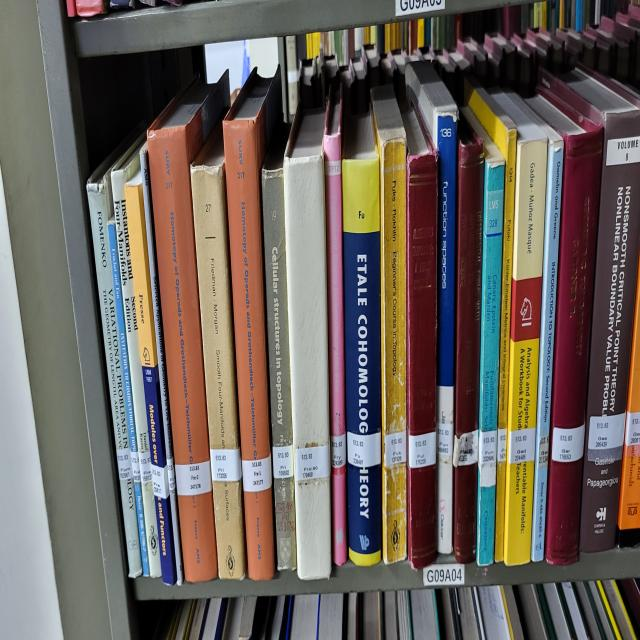Book: (541, 68, 640, 552), (146, 78, 229, 582), (534, 87, 602, 565), (222, 70, 280, 579), (86, 135, 142, 576), (191, 130, 246, 579), (465, 84, 516, 563), (410, 65, 459, 555), (498, 92, 548, 565), (283, 56, 331, 524), (111, 141, 161, 576), (125, 173, 176, 584), (140, 146, 184, 584), (526, 97, 564, 563), (370, 84, 406, 565), (402, 106, 438, 568), (261, 130, 296, 571), (108, 219, 150, 576), (452, 119, 484, 563), (476, 124, 505, 565), (344, 230, 381, 565), (322, 89, 348, 565), (344, 116, 379, 227)
Label: (588, 414, 625, 465), (295, 444, 330, 482), (346, 430, 381, 468), (551, 425, 585, 463), (175, 460, 211, 495), (210, 446, 241, 482), (242, 455, 271, 492), (508, 427, 536, 465), (409, 430, 436, 468), (452, 430, 479, 468), (384, 430, 406, 468), (272, 444, 294, 479), (479, 430, 498, 465), (151, 463, 169, 498), (116, 446, 132, 482), (438, 422, 454, 457), (331, 433, 346, 468), (139, 452, 151, 484), (498, 427, 508, 463), (166, 457, 176, 492), (131, 452, 141, 482), (161, 479, 162, 484)
